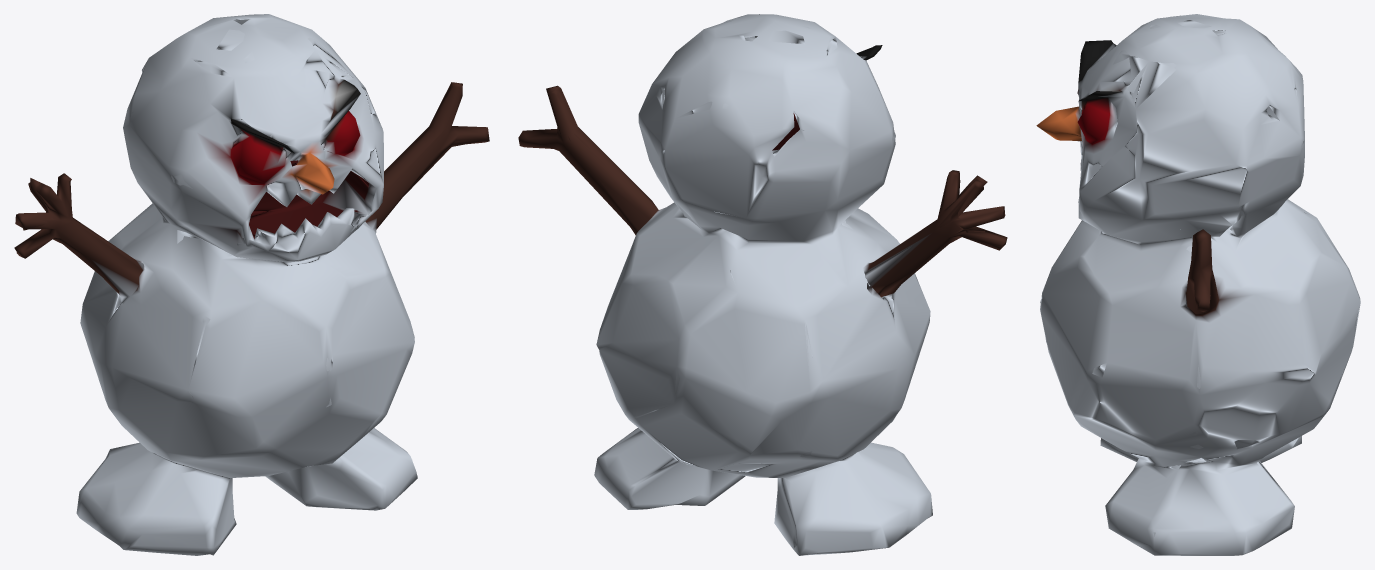
Rendered from gen3d-evil-snowman-lod0.glb.
3 renders of one model, left to right at view 1: azimuth 30°, elevation 25°; view 2: azimuth 150°, elevation 25°; view 3: azimuth 270°, elevation 25°, orthographic. The views are drawn at different scales.
Parts seen in each view (by area): view 1: part_0; view 2: part_0; view 3: part_0.
Part boxes in pixels (x1=…): part_0: x1=14, y1=14, x2=489, y2=555; part_0: x1=518, y1=14, x2=1007, y2=555; part_0: x1=1036, y1=14, x2=1360, y2=555.
Size of the model in its own units: 1.06 by 1 by 0.6409.
